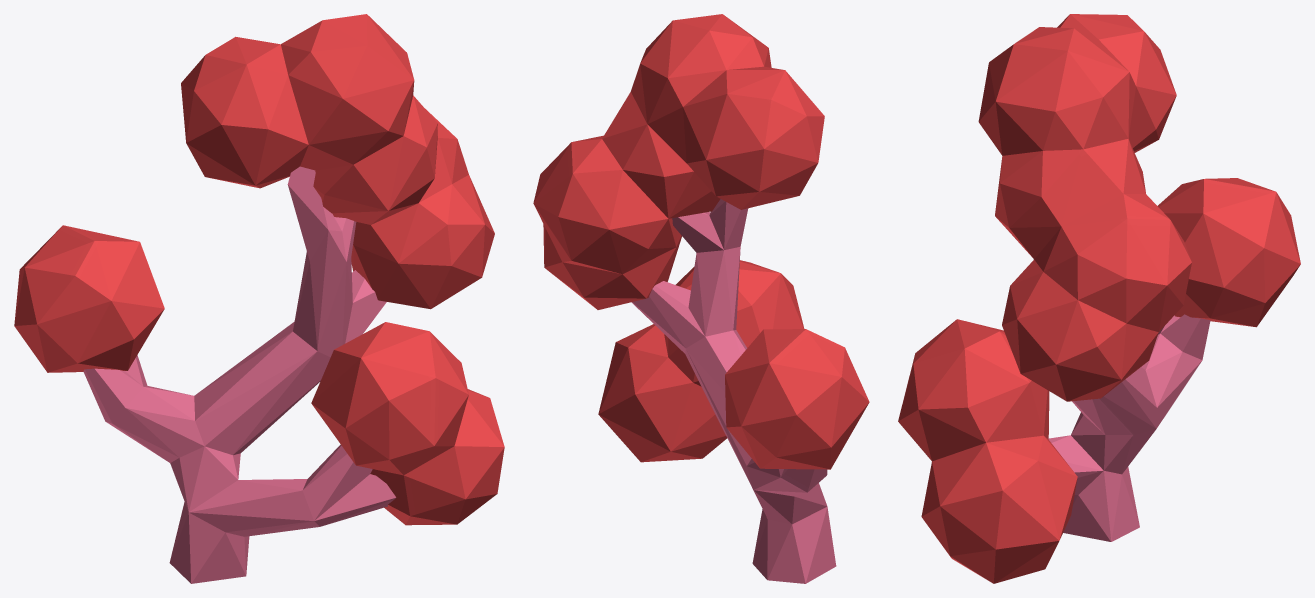
Rendered from Coral_04.fbx.
3 views of the same model, side by side, from view 1: azimuth 30°, elevation 25°; view 2: azimuth 150°, elevation 25°; view 3: azimuth 270°, elevation 25° (orthographic). The views are drawn at different scales.
Parts seen in each view (by area): view 1: Coral_04; view 2: Coral_04; view 3: Coral_04.
Boxes of the visible parts, bbox=[...] form: Coral_04: bbox=[14, 14, 504, 583]; Coral_04: bbox=[533, 14, 869, 583]; Coral_04: bbox=[898, 14, 1300, 583].
Size of the model in its own units: 281 by 365 by 245.
